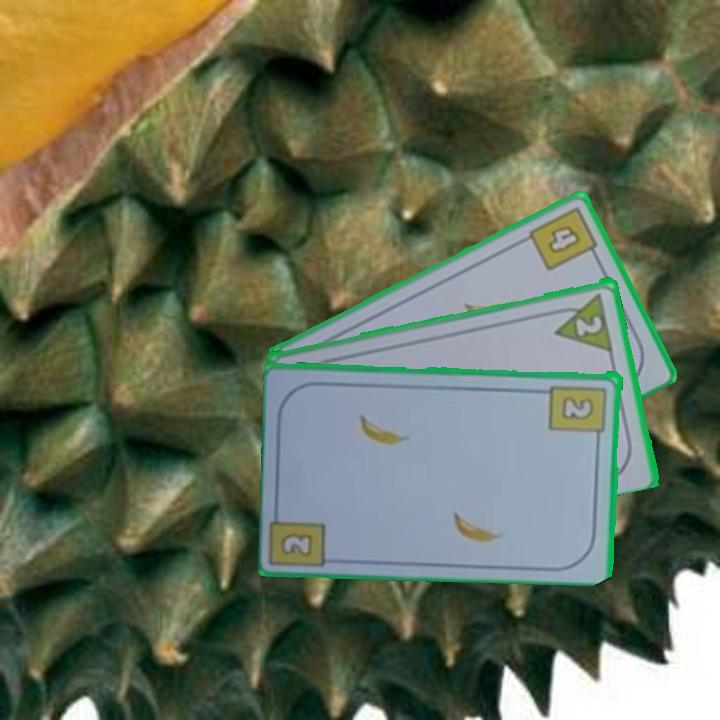2b: (547, 381, 610, 444), (281, 531, 313, 556)
2p: (572, 311, 606, 339)
4b: (525, 202, 603, 274)
